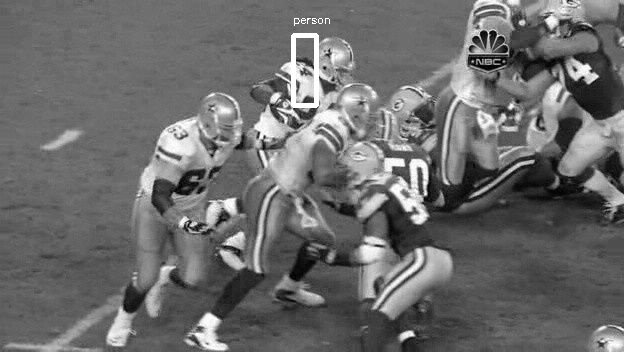person: (322, 35, 357, 80), (321, 35, 356, 80), (323, 35, 358, 80), (322, 34, 357, 79), (322, 36, 357, 81)
target_negative: (179, 27, 470, 277), (144, 60, 510, 165), (146, 141, 584, 228), (277, 10, 310, 200), (359, 242, 488, 249), (283, 254, 355, 256)
